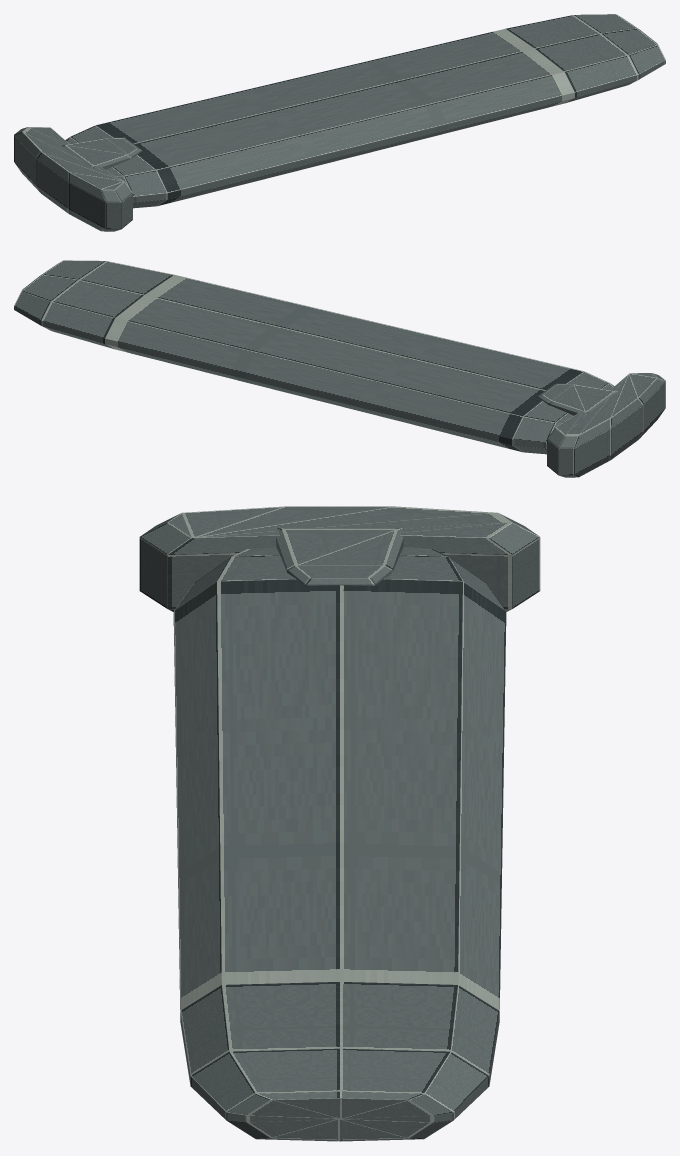
File: bench_xuanyue_zhenshan_sword_1.obj
The picture shows the model from 3 angles, top to bottom: view 1: azimuth 30°, elevation 25°; view 2: azimuth 150°, elevation 25°; view 3: azimuth 270°, elevation 25°; orthographic projection. The views are drawn at different scales.
Parts seen in each view (by area): view 1: geometry; view 2: geometry; view 3: geometry.
Part boxes in pixels (x1,y1,x2,y2): geometry: (14, 14, 665, 231); geometry: (14, 260, 665, 477); geometry: (139, 506, 540, 1141).
Bounding box in the file's own units: 0.75 × 0.0524 × 0.2214.
